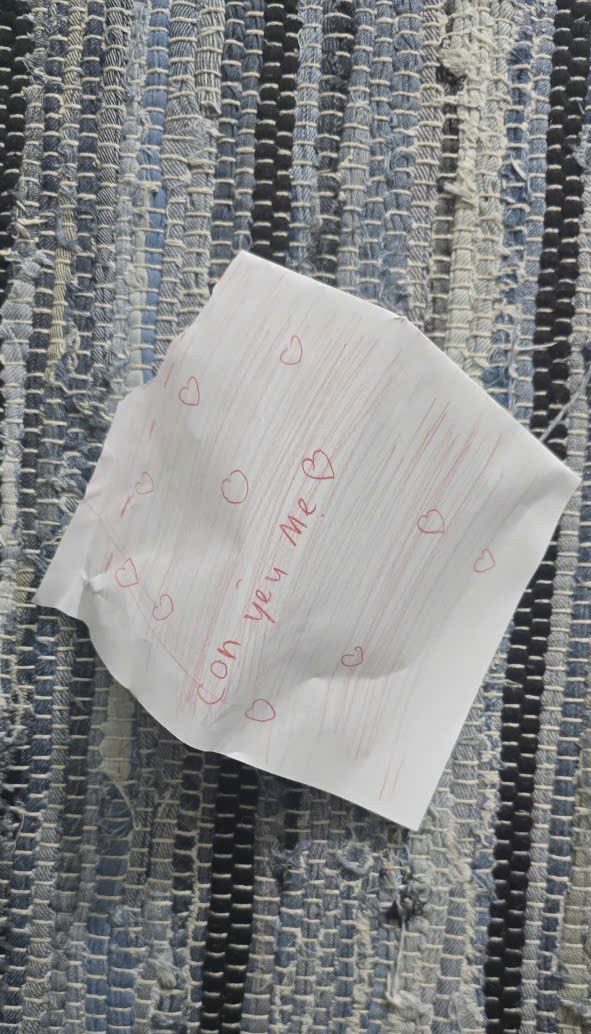paper: (28, 240, 586, 847)
